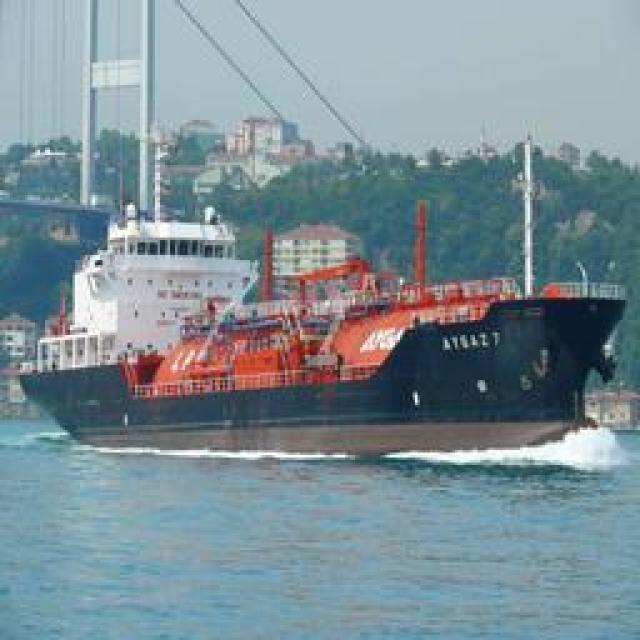CIV_Ship: (15, 191, 628, 449)
